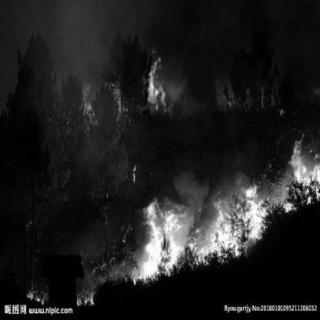Fire: (132, 138, 318, 284), (124, 44, 182, 112)
